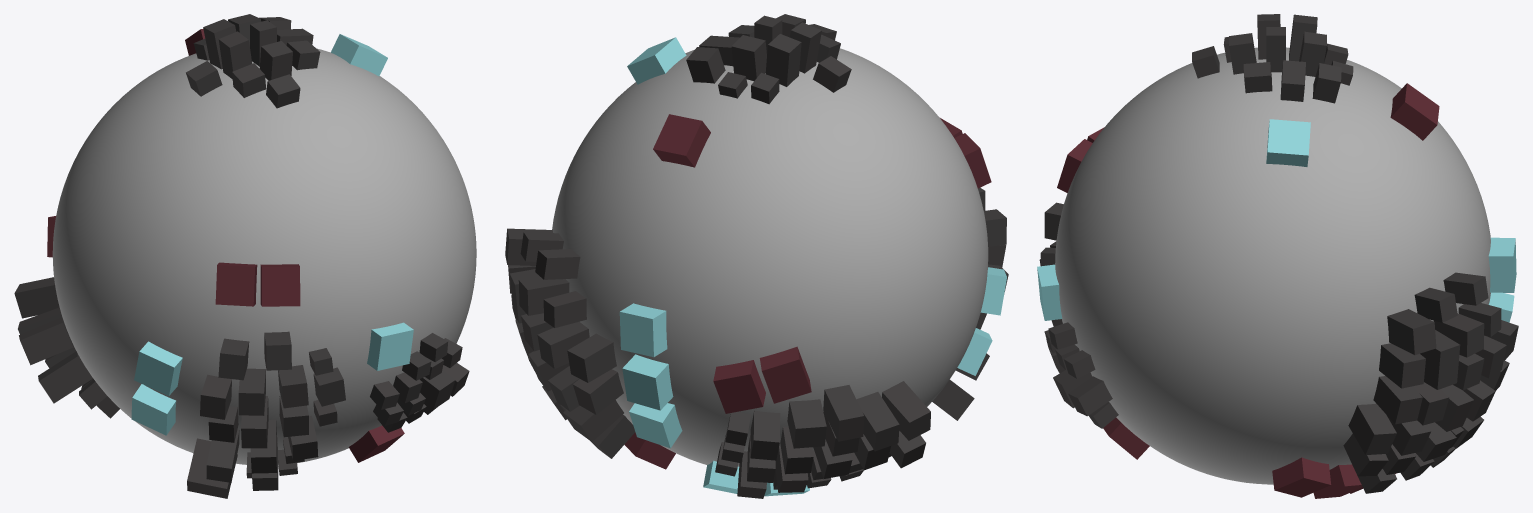
Rendered from Planet 2.fbx.
3 renders of one model, left to right at view 1: azimuth 30°, elevation 25°; view 2: azimuth 150°, elevation 25°; view 3: azimuth 270°, elevation 25°, orthographic. The views are drawn at different scales.
Visible parts, largest first — view 1: pPlatonic3, NPP7, NPP6, House30, FFPP7, House28, House106, House105, House104, House60, House14, House24 (+28 smaller); view 2: pPlatonic3, NPP4, NPP3, FFPP4, FFPP6, House100, House104, House106, NPP2, House69, House96, House103 (+40 smaller); view 3: pPlatonic3, House14, House64, FFPP6, House95, House53, House50, House54, House52, NPP4, House46, House58 (+31 smaller).
Boxes of the visible parts, left/top/right/bottom form: pPlatonic3: left=52, top=48, right=476, bottom=464; NPP7: left=134, top=341, right=182, bottom=395; NPP6: left=367, top=322, right=413, bottom=370; House30: left=260, top=264, right=300, bottom=306; FFPP7: left=215, top=262, right=257, bottom=306; House28: left=131, top=384, right=176, bottom=435; House106: left=19, top=317, right=73, bottom=365; House105: left=38, top=351, right=92, bottom=403; House104: left=14, top=277, right=59, bottom=318; House60: left=187, top=438, right=237, bottom=498; House14: left=331, top=34, right=387, bottom=76; House24: left=238, top=368, right=265, bottom=415; pPlatonic3: left=552, top=48, right=988, bottom=466; NPP4: left=619, top=303, right=667, bottom=357; NPP3: left=622, top=354, right=673, bottom=410; FFPP4: left=713, top=360, right=765, bottom=413; FFPP6: left=653, top=114, right=710, bottom=167; House100: left=759, top=346, right=811, bottom=403; House104: left=823, top=385, right=864, bottom=441; House106: left=882, top=381, right=930, bottom=440; NPP2: left=629, top=403, right=682, bottom=448; House69: left=567, top=333, right=616, bottom=382; House96: left=787, top=399, right=826, bottom=448; House103: left=856, top=392, right=899, bottom=451; pPlatonic3: left=1055, top=47, right=1490, bottom=484; House14: left=1266, top=119, right=1310, bottom=166; House64: left=1348, top=403, right=1396, bottom=455; FFPP6: left=1390, top=83, right=1439, bottom=140; House95: left=1272, top=457, right=1331, bottom=497; House53: left=1387, top=309, right=1436, bottom=354; House50: left=1420, top=330, right=1460, bottom=389; House54: left=1373, top=376, right=1422, bottom=424; House52: left=1379, top=343, right=1425, bottom=388; NPP4: left=1488, top=237, right=1516, bottom=292; House46: left=1433, top=313, right=1484, bottom=357; House58: left=1414, top=287, right=1457, bottom=322.
Bounding box in the file's own units: 279 × 286 × 288.
